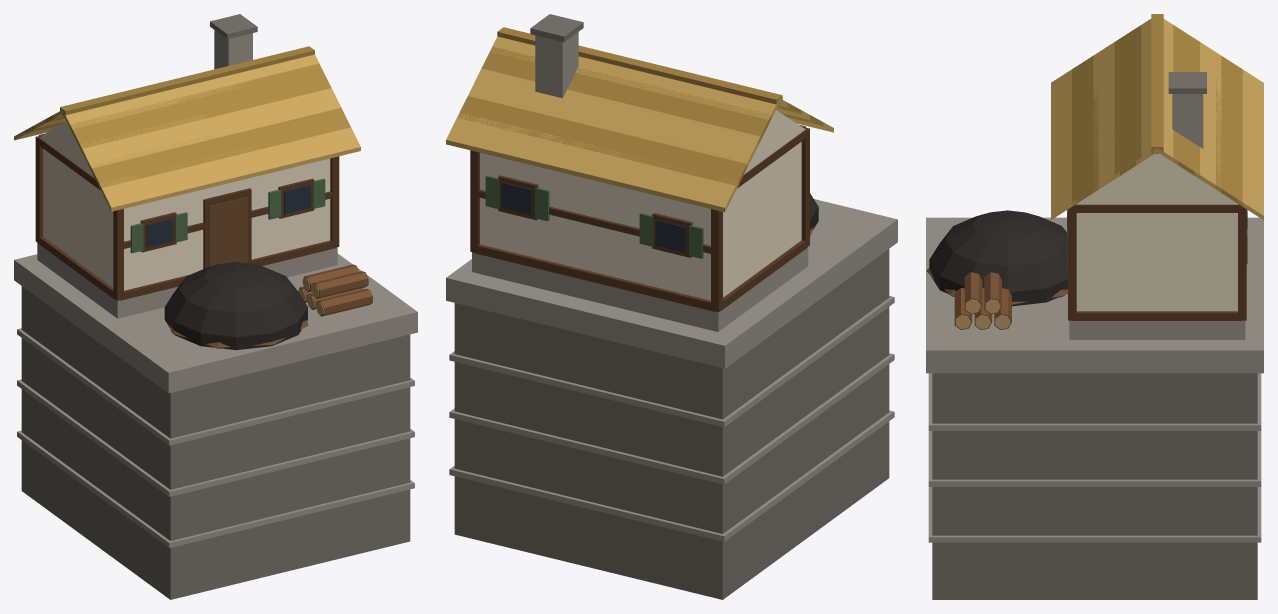
The model's file is charcoal_kiln.glb.
3 renders of one model, left to right at view 1: azimuth 30°, elevation 25°; view 2: azimuth 150°, elevation 25°; view 3: azimuth 270°, elevation 25°, orthographic. The views are drawn at different scales.
Visible parts, largest first — view 1: charcoal_kiln; view 2: charcoal_kiln; view 3: charcoal_kiln.
Boxes of the visible parts, x1,y1,x2,y2 form: charcoal_kiln: [14, 14, 417, 599]; charcoal_kiln: [446, 14, 897, 599]; charcoal_kiln: [926, 14, 1263, 599].
Size of the model in its own units: 5.1 by 8.72 by 5.47.
